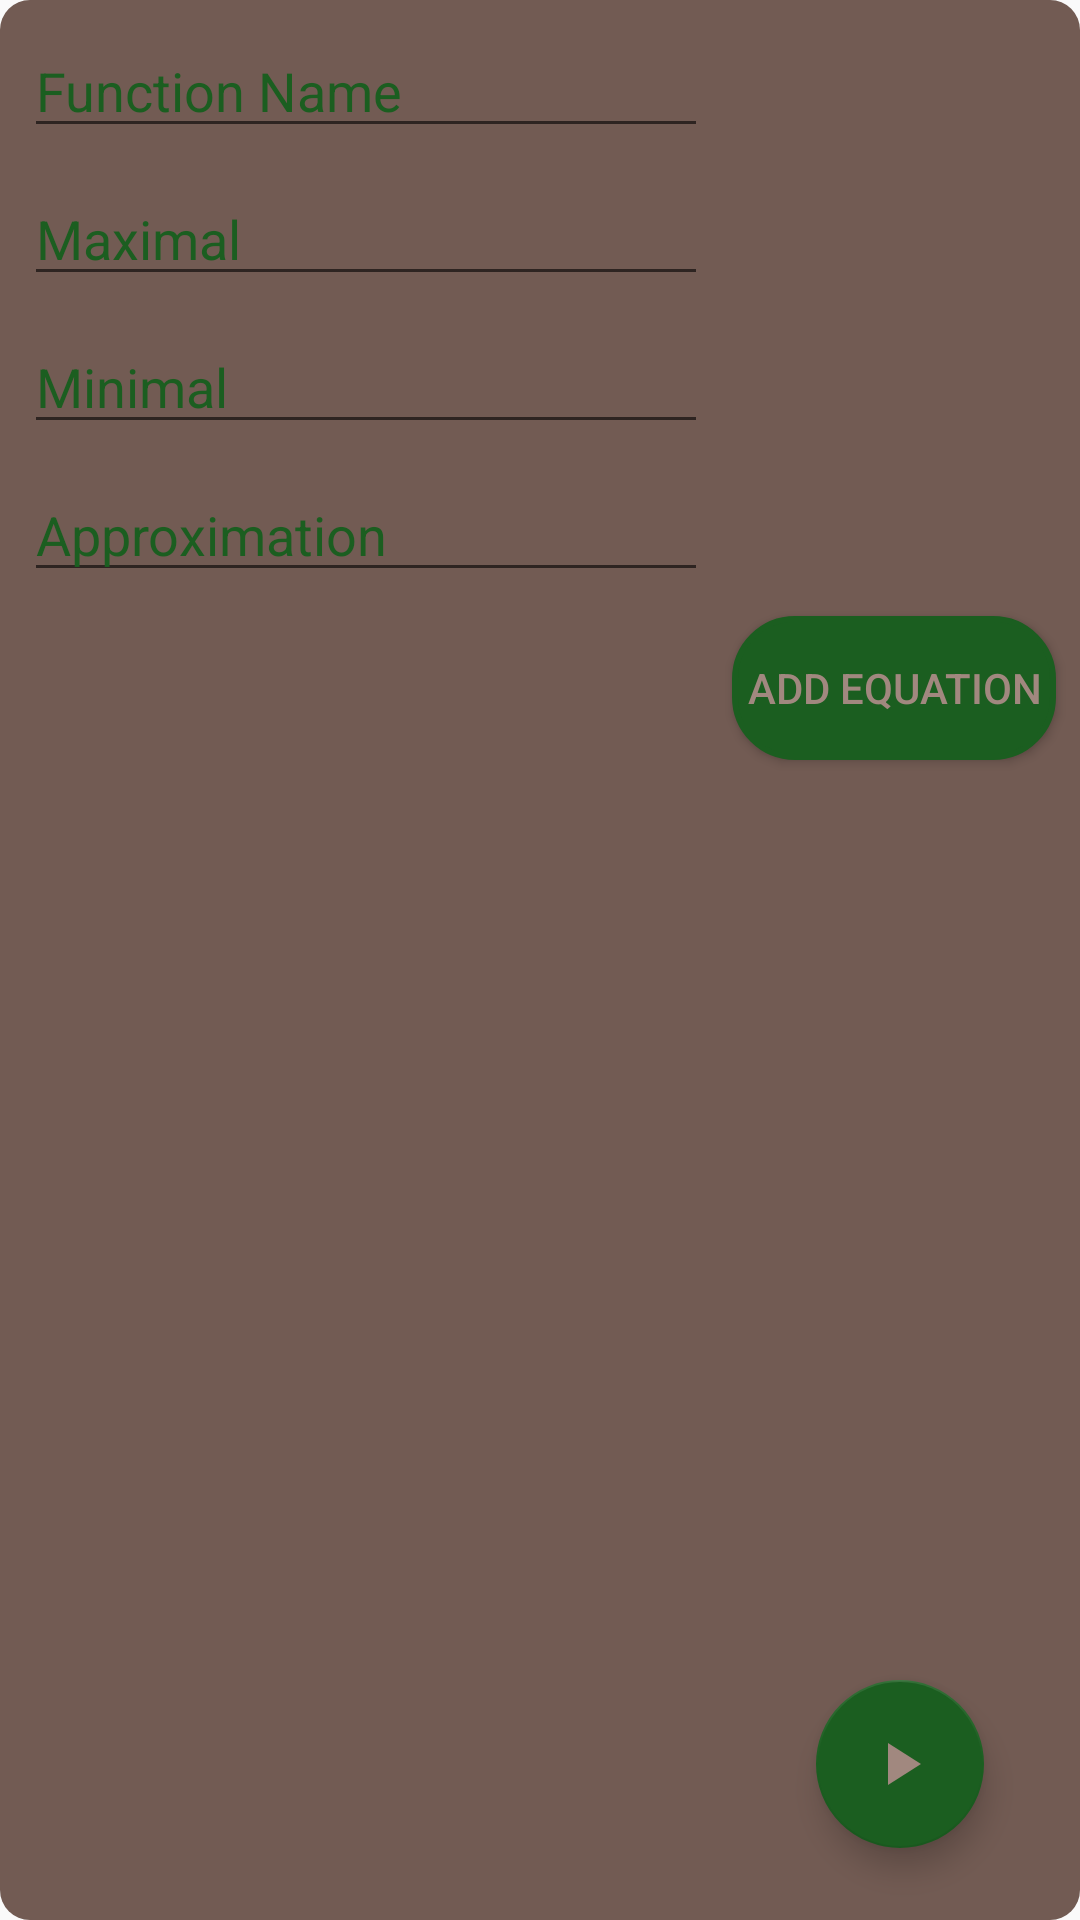

Screen size 1080 × 1920. Icon name, then its center in pixels as (x=x, y=y):
play arrow: (x=900, y=1764)
